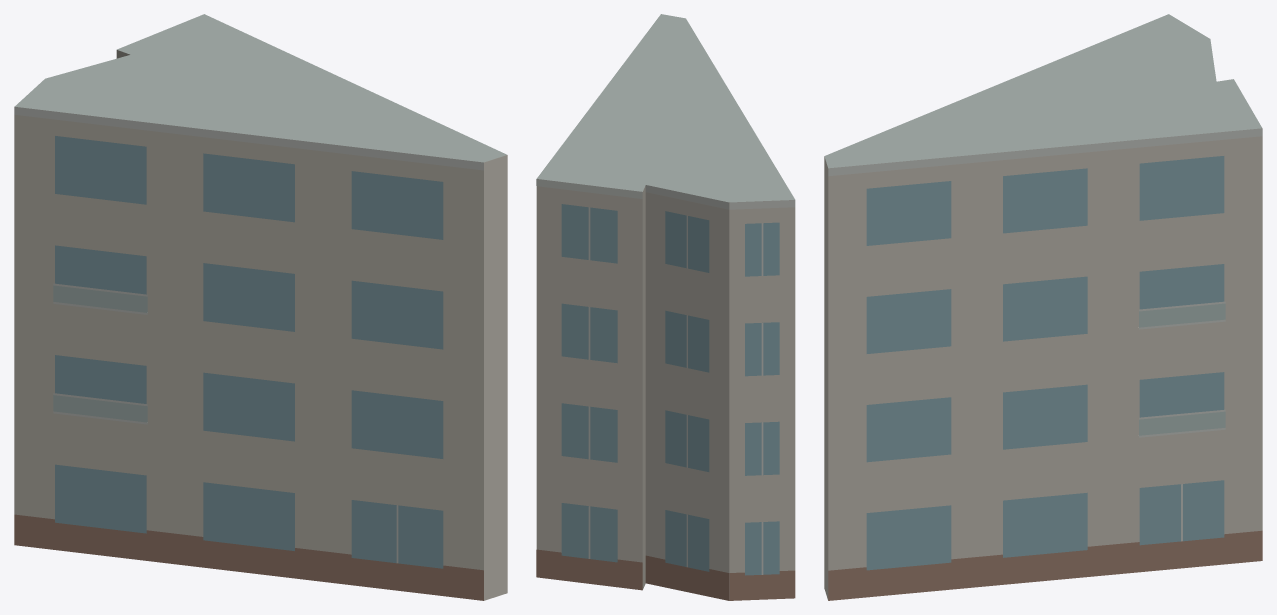
File: survey-upis-32895954.glb
The picture shows the model from 3 angles, left to right: view 1: azimuth 30°, elevation 25°; view 2: azimuth 150°, elevation 25°; view 3: azimuth 270°, elevation 25°; orthographic projection. The views are drawn at different scales.
Visible parts, largest first — view 1: survey-upis-32895954.tmp; view 2: survey-upis-32895954.tmp; view 3: survey-upis-32895954.tmp.
Part boxes in pixels (left/top/right/bottom): survey-upis-32895954.tmp: left=14, top=14, right=507, bottom=600; survey-upis-32895954.tmp: left=536, top=14, right=795, bottom=600; survey-upis-32895954.tmp: left=824, top=14, right=1262, bottom=600.
Size of the model in its own units: 10.19 by 13.3 by 12.22.
